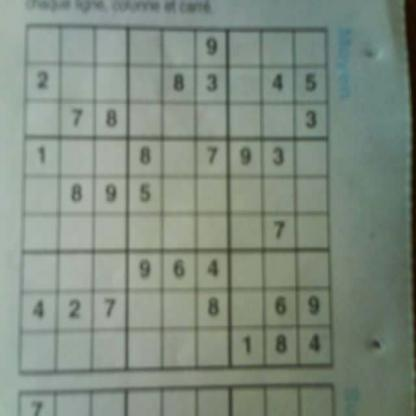sudoku: (15, 18, 338, 380)
